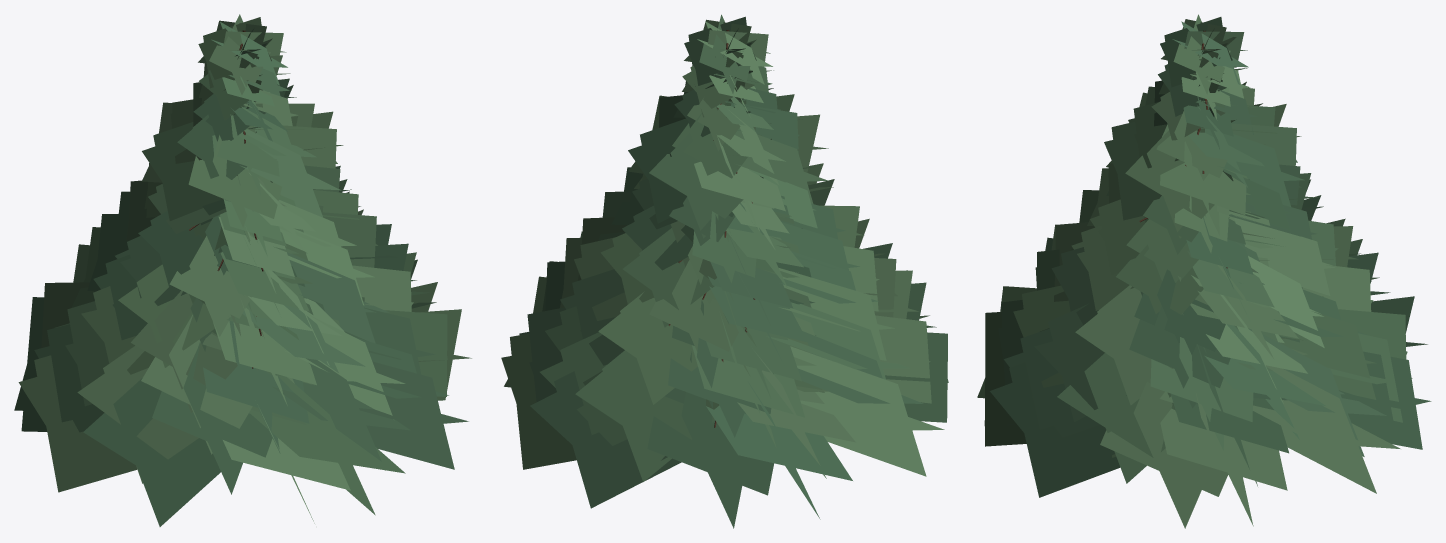
Rendered from conifer_0.glb.
The picture shows the model from 3 angles, left to right: view 1: azimuth 30°, elevation 25°; view 2: azimuth 150°, elevation 25°; view 3: azimuth 270°, elevation 25°; orthographic projection.
Parts seen in each view (by area): view 1: conifer_0; view 2: conifer_0; view 3: conifer_0.
Part boxes in pixels (box(x1,y1,x2,y2)): conifer_0: box(14, 14, 471, 526); conifer_0: box(501, 14, 948, 528); conifer_0: box(977, 14, 1431, 528).
Bounding box in the file's own units: 0.9876 × 1 × 1.
